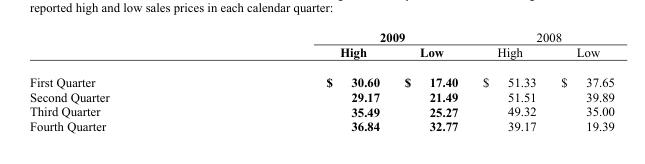table: (28, 29, 613, 132)
table column: (28, 29, 217, 132), (217, 29, 391, 132), (391, 29, 469, 132), (469, 29, 547, 132), (547, 29, 613, 132)
table column header: (28, 29, 613, 66)
table row: (28, 66, 613, 89), (28, 44, 613, 66), (28, 29, 613, 44), (28, 103, 613, 118), (28, 89, 613, 103), (28, 118, 613, 132)
table spanning cell: (217, 29, 469, 44), (469, 29, 613, 44)
